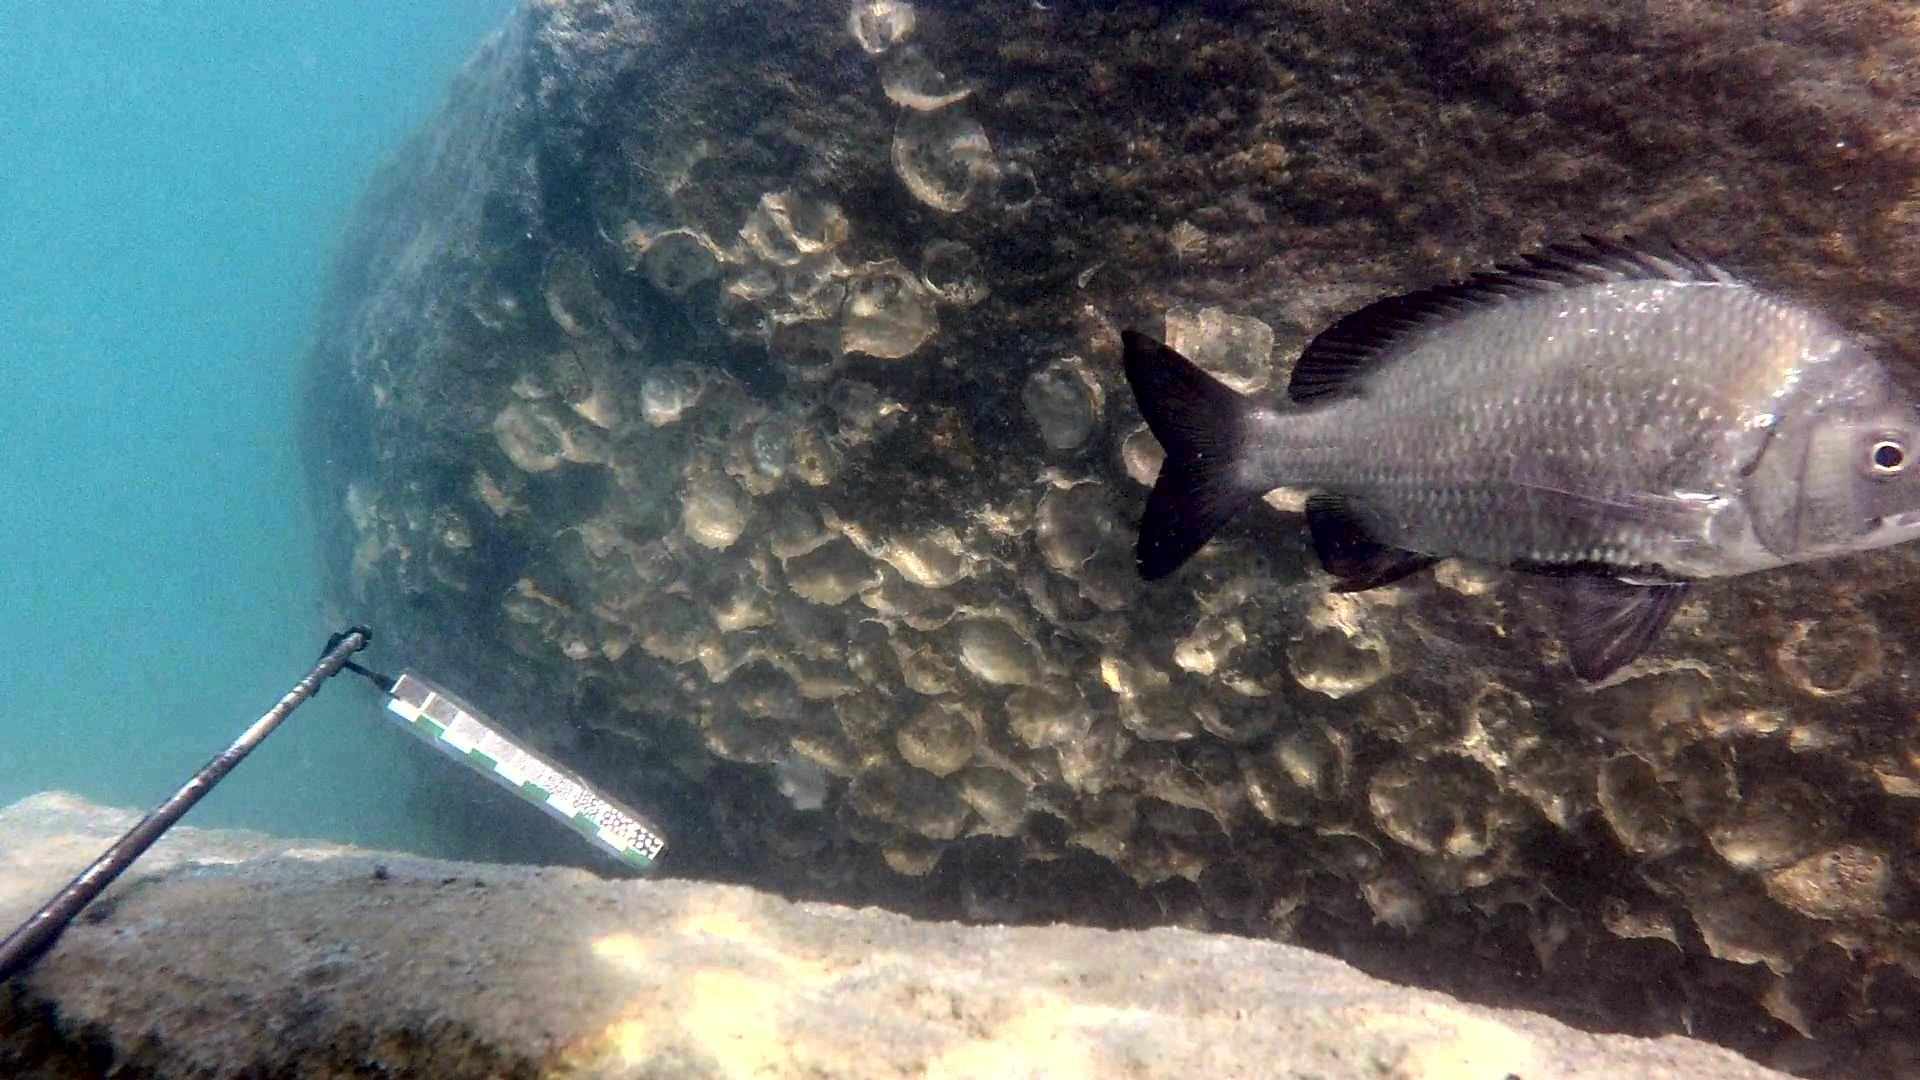acanthopagrus palmaris: (1104, 222, 1920, 690)
